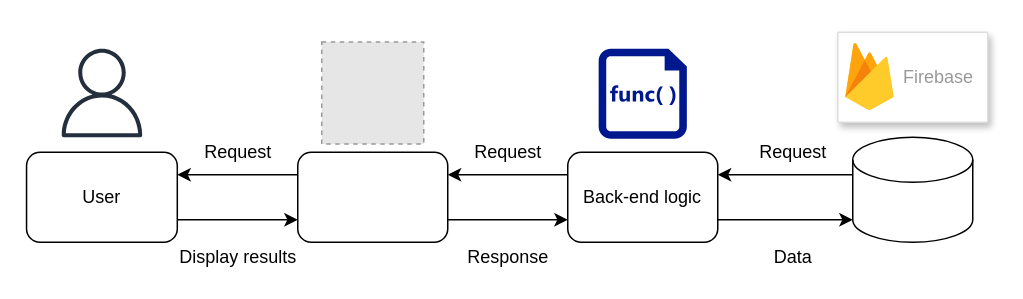
The diagram is 1023 pixels wide and 299 high, and some of its shapes have lost their labels. Grey dashed boxes stand in for pictures. The centre of each missing label's shape, as x and y in pixels:
"Database (firebase)" belongs at pixel 912 189.
"User Interface" belongs at pixel 372 196.
